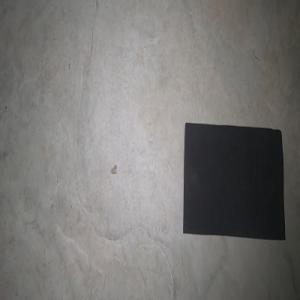PaintChip: (183, 122, 285, 240)
